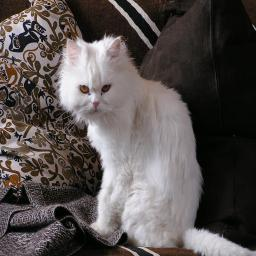catnose: (92, 98, 102, 110)
